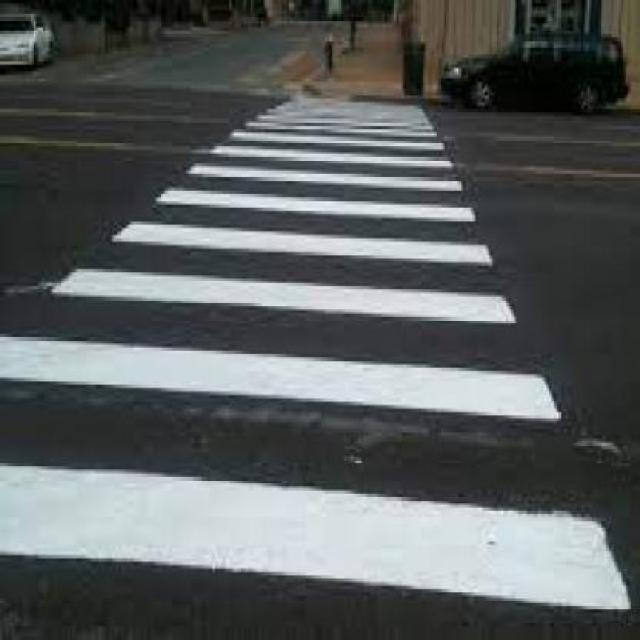crosswalk: (0, 96, 634, 613)
